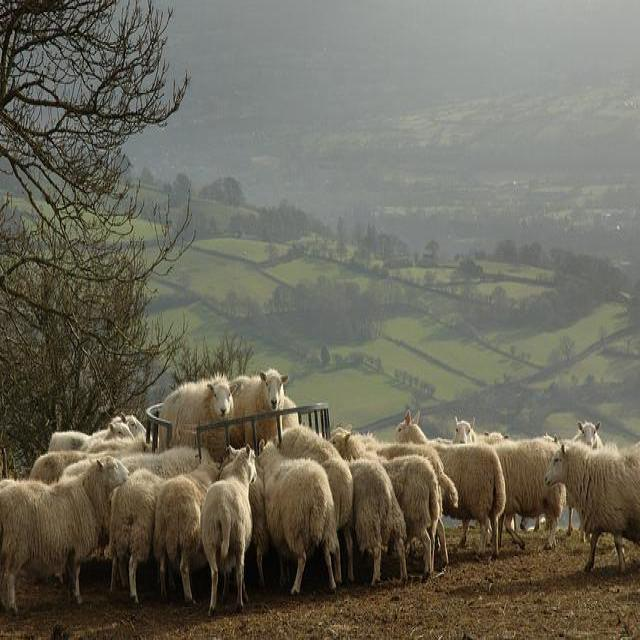Sheep: (38, 391, 607, 618), (0, 456, 131, 618), (397, 409, 505, 553), (454, 415, 566, 553), (545, 434, 639, 578), (257, 441, 342, 598), (278, 426, 355, 586), (201, 444, 258, 619), (156, 451, 221, 597), (106, 468, 166, 610), (382, 457, 440, 577), (159, 373, 237, 460), (361, 433, 444, 511), (229, 366, 290, 448)
